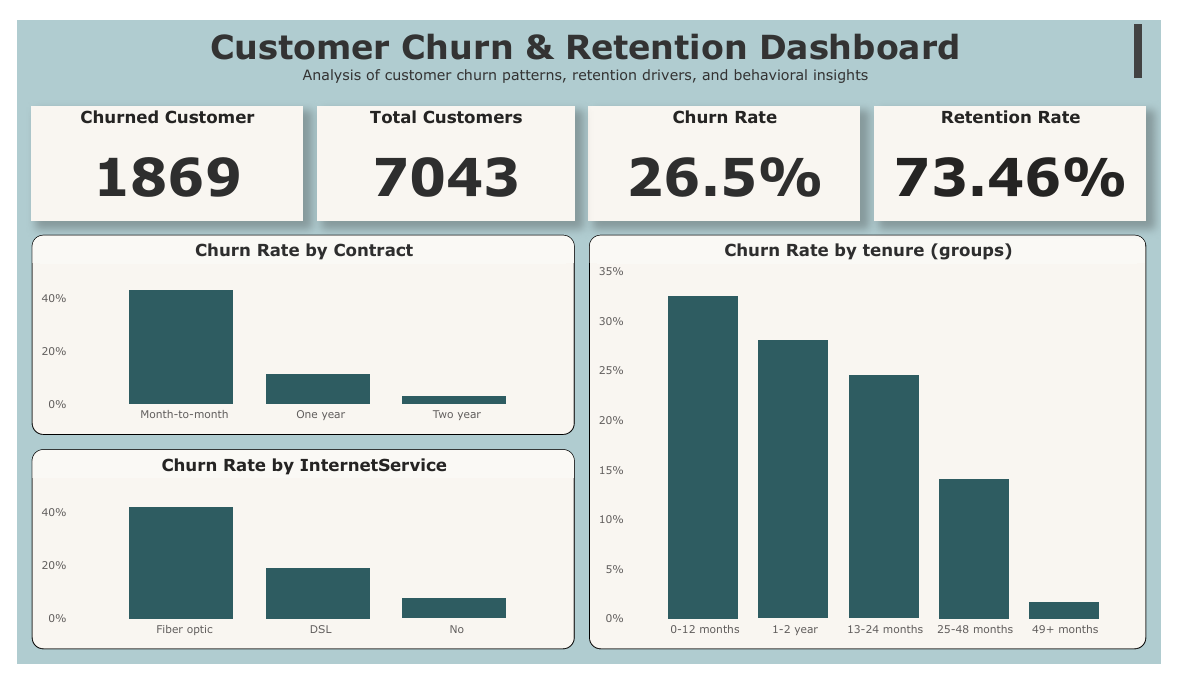

The dashboard page shown, as its layout file describes it:
{"tool":"powerbi","page":{"name":"Customers Churn & Retention Dashboard 1","canvas":[1280,720],"ordinal":0},"visuals":[{"type":"card","title":"Churned Customer","fields":{"Values":["WA_Fn-UseC_-Telco-Customer-Churn).Churned Customers"]},"box":[16,96,304,128],"z":0},{"type":"card","title":"Churn Rate","fields":{"Values":["WA_Fn-UseC_-Telco-Customer-Churn).Churn Rate"]},"box":[640,96,304,128],"z":1000},{"type":"card","title":"Total Customers","fields":{"Values":["WA_Fn-UseC_-Telco-Customer-Churn).Total Customers"]},"box":[336,96,288,128],"z":2000},{"type":"clusteredColumnChart","fields":{"Category":["WA_Fn-UseC_-Telco-Customer-Churn).Contract"],"Y":["WA_Fn-UseC_-Telco-Customer-Churn).Churn Rate"]},"box":[16,240,608,224],"z":3000},{"type":"clusteredColumnChart","fields":{"Category":["WA_Fn-UseC_-Telco-Customer-Churn).tenure (groups)"],"Y":["WA_Fn-UseC_-Telco-Customer-Churn).Churn Rate"]},"box":[640,240,624,464],"z":4000},{"type":"textbox","box":[16,0,1248,80],"z":5000},{"type":"card","title":"Retention Rate","fields":{"Values":["WA_Fn-UseC_-Telco-Customer-Churn).Retention Rate"]},"box":[960,96,304,128],"z":6000},{"type":"columnChart","fields":{"Category":["WA_Fn-UseC_-Telco-Customer-Churn).InternetService"],"Y":["WA_Fn-UseC_-Telco-Customer-Churn).Churn Rate"]},"box":[16,480,608,224],"z":7000}]}

Visuals, with their boxes on the page's 1280x720 design canvas (x1, y1, x2, y2). These are canvas units, not pixel positions in the 1178x684 screenshot, which may show the page scaled, cropped or inside an application window:
"Churned Customer" card: bbox(16, 96, 320, 224)
"Churn Rate" card: bbox(640, 96, 944, 224)
"Total Customers" card: bbox(336, 96, 624, 224)
clusteredColumnChart - WA_Fn-UseC_-Telco-Customer-Churn).Contract x WA_Fn-UseC_-Telco-Customer-Churn).Churn Rate: bbox(16, 240, 624, 464)
clusteredColumnChart - WA_Fn-UseC_-Telco-Customer-Churn).tenure (groups) x WA_Fn-UseC_-Telco-Customer-Churn).Churn Rate: bbox(640, 240, 1264, 704)
textbox: bbox(16, 0, 1264, 80)
"Retention Rate" card: bbox(960, 96, 1264, 224)
columnChart - WA_Fn-UseC_-Telco-Customer-Churn).InternetService x WA_Fn-UseC_-Telco-Customer-Churn).Churn Rate: bbox(16, 480, 624, 704)
